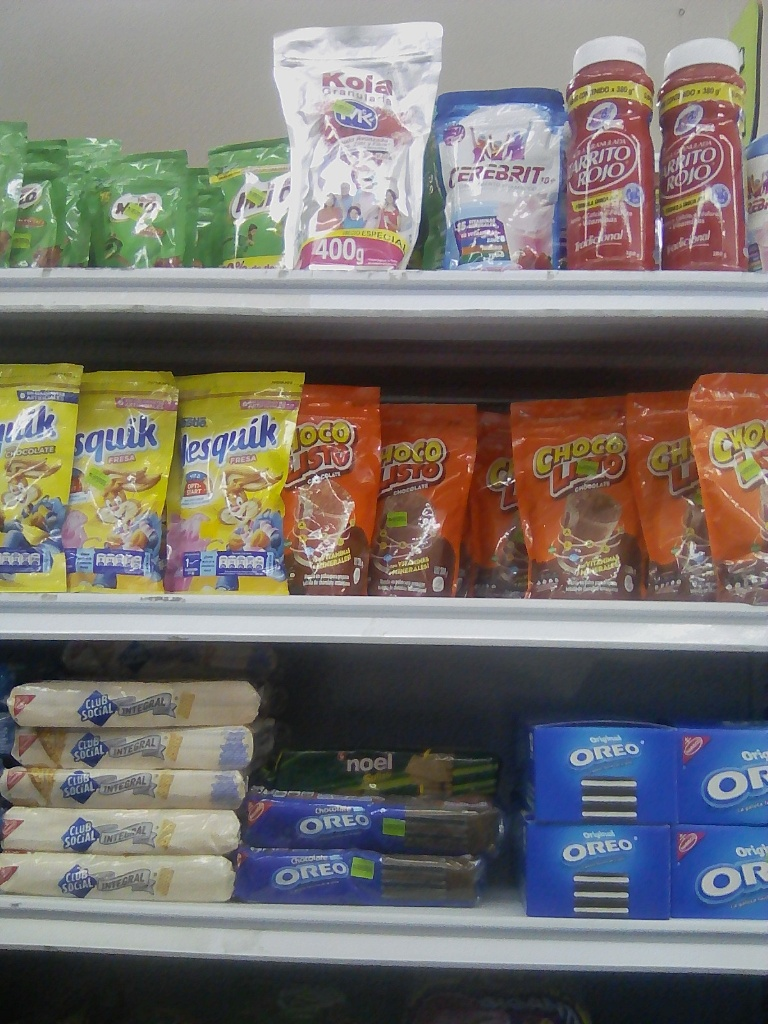COL0170203DYP10000: (86, 150, 193, 270)
COL0170203DYP25000: (205, 143, 298, 275)
COL0170303DYP20000: (1, 359, 84, 595)
COL0170305DYP20000: (74, 366, 175, 594)
